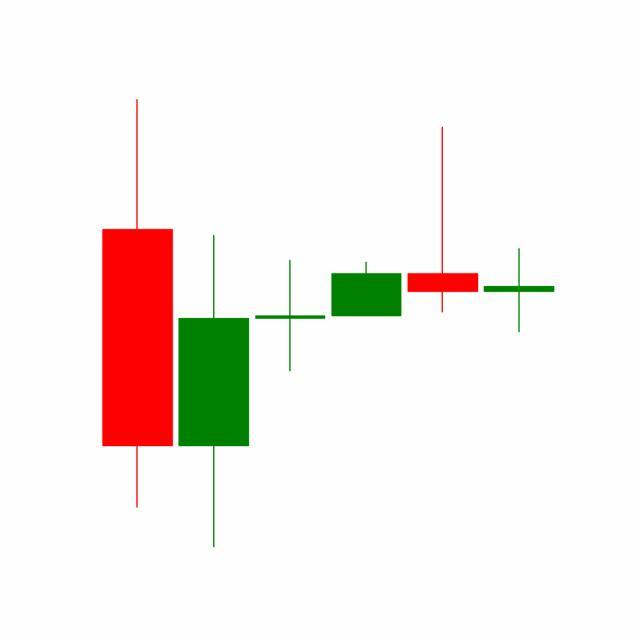Spinning Top: (404, 125, 482, 316)
